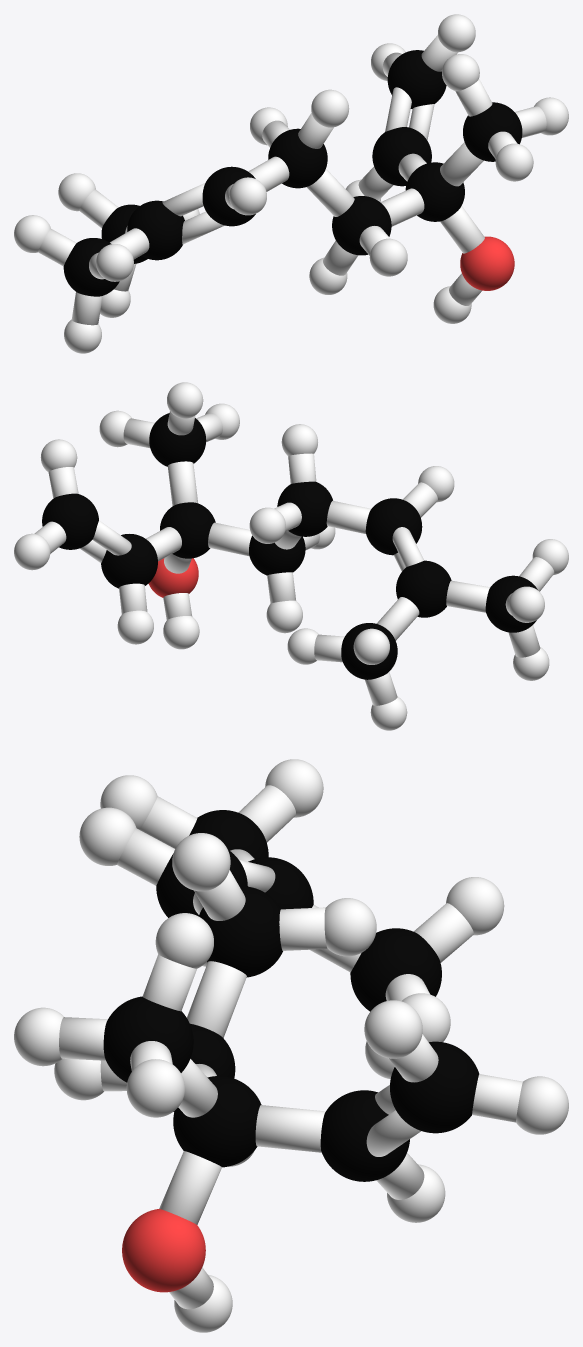
3 renders of one model, top to bottom at view 1: azimuth 30°, elevation 25°; view 2: azimuth 150°, elevation 25°; view 3: azimuth 270°, elevation 25°, orthographic. The views are drawn at different scales.
Visible parts, largest first — view 1: molecule; view 2: molecule; view 3: molecule.
Part boxes in pixels (x1,y1,x2,y2): molecule: [14, 14, 568, 353]; molecule: [14, 382, 568, 730]; molecule: [14, 759, 568, 1332].
Size of the model in its own units: 9.21 by 4.71 by 5.7.
